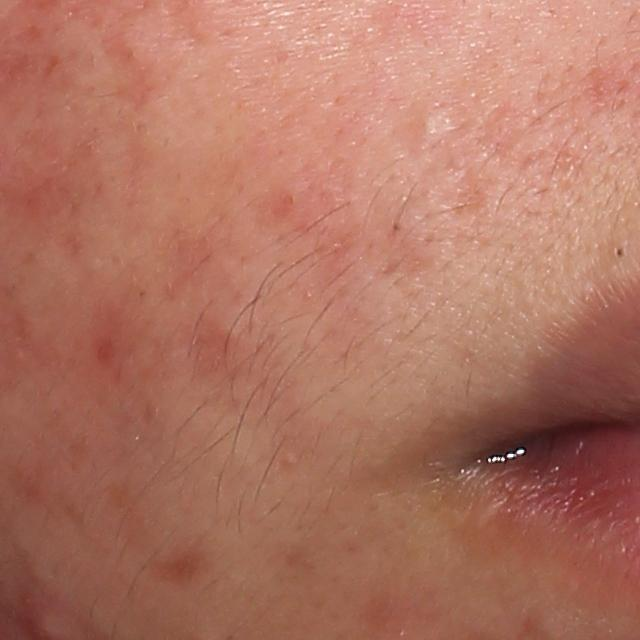comedo: (414, 105, 446, 148), (610, 243, 630, 261)
